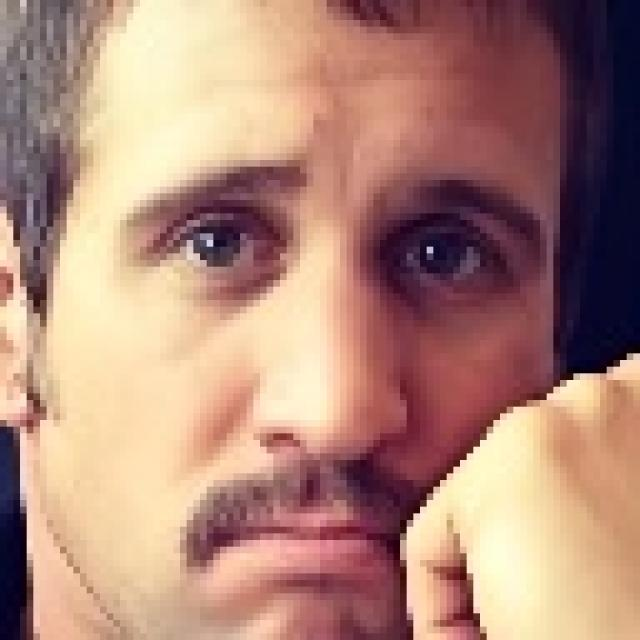sad: (0, 0, 627, 640)
